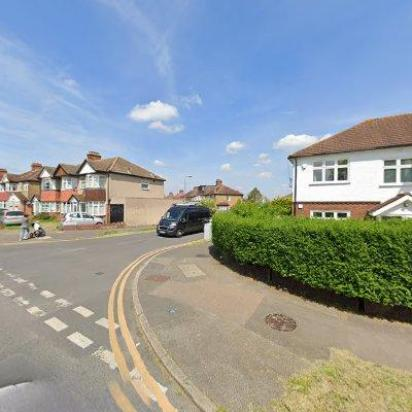moving-light-truck: (156, 201, 213, 241)
stationary-car-offstreet: (57, 210, 103, 230), (1, 208, 25, 226)
